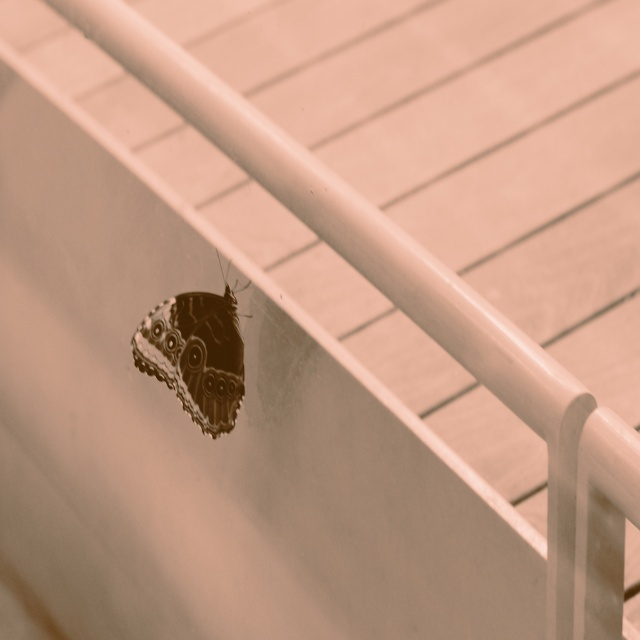Butterfly: (132, 249, 255, 434)
